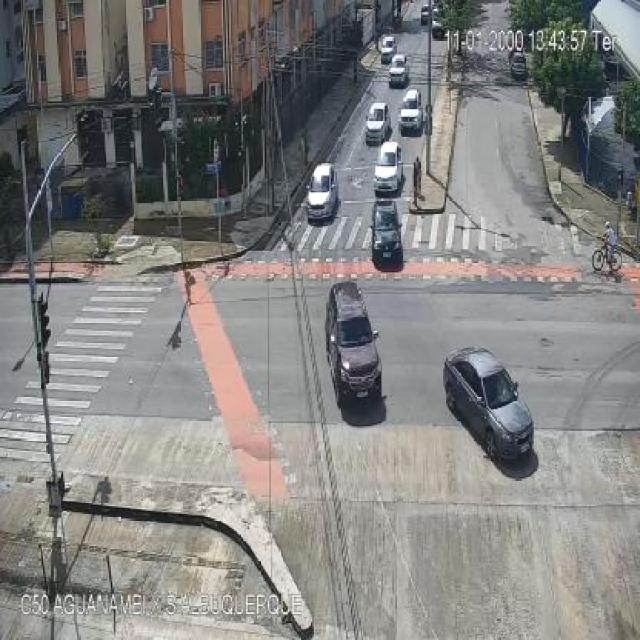Car: (443, 345, 536, 462), (324, 282, 381, 404), (370, 200, 404, 268), (306, 164, 338, 222), (374, 142, 402, 195), (399, 88, 423, 134), (365, 102, 389, 143), (389, 54, 409, 86), (510, 52, 527, 81), (380, 36, 396, 64), (420, 4, 432, 25)
Cycle: (590, 235, 624, 272)
